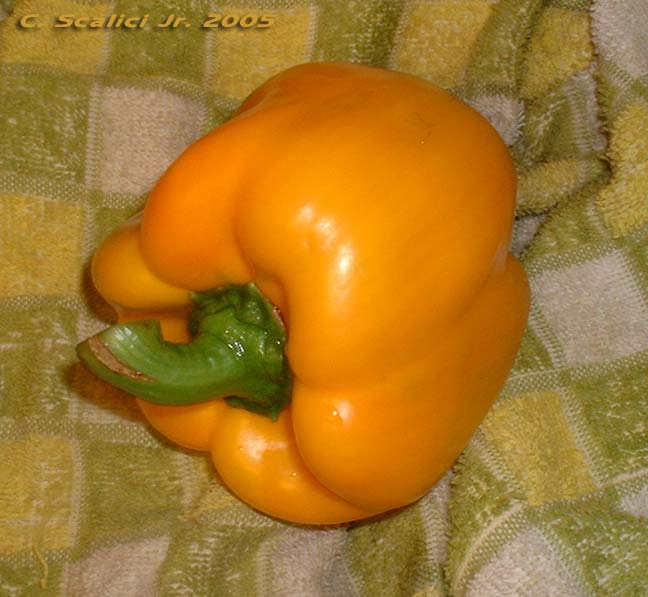capsicum: (73, 62, 531, 528)
